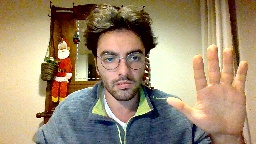Mano_aperta: (163, 43, 250, 134)
